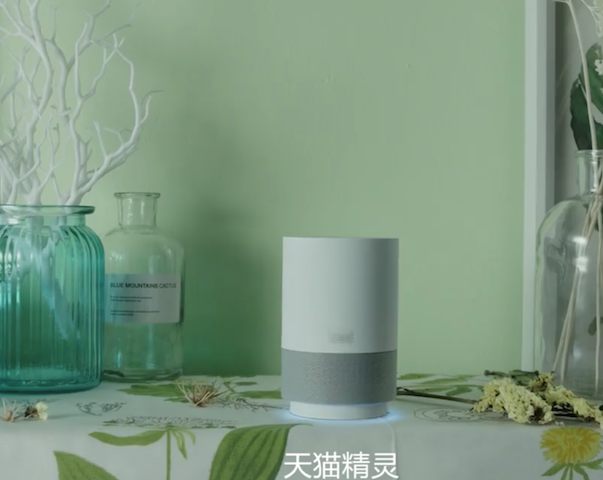audio: (268, 226, 406, 427)
